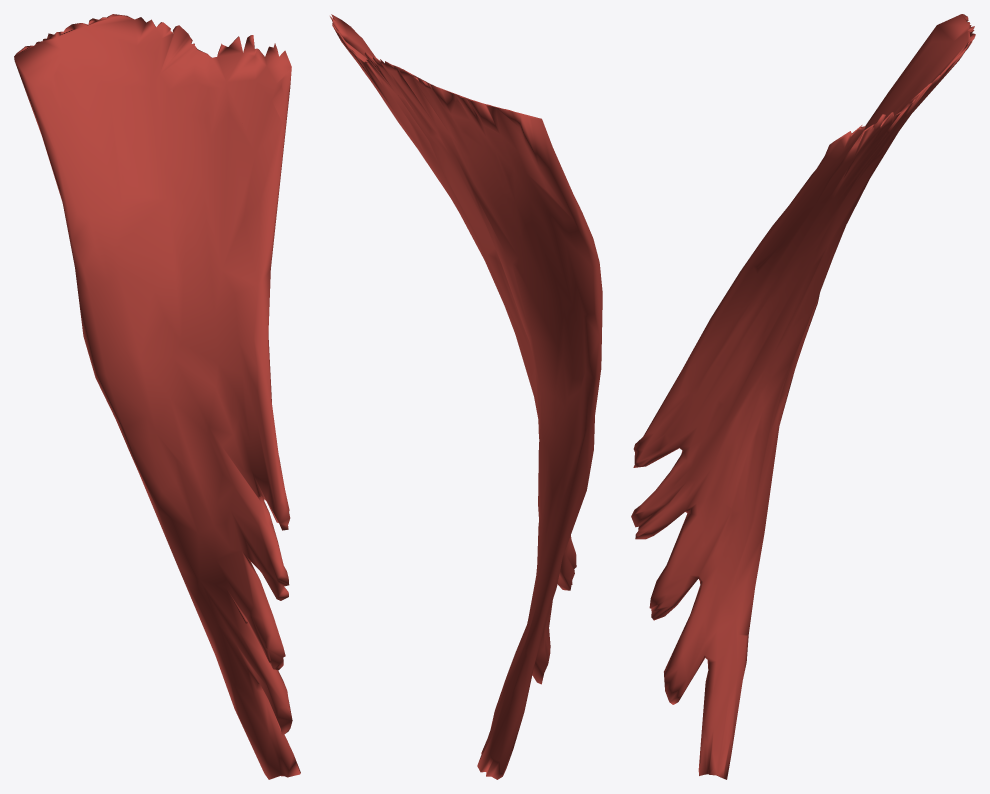
Rendered from musculos-spinalis-capitis-muscle-l.glb.
3 renders of one model, left to right at view 1: azimuth 30°, elevation 25°; view 2: azimuth 150°, elevation 25°; view 3: azimuth 270°, elevation 25°, orthographic. The views are drawn at different scales.
Visible parts, largest first — view 1: Spinalis capitis muscle.l; view 2: Spinalis capitis muscle.l; view 3: Spinalis capitis muscle.l.
Part boxes in pixels (x1,y1,x2,y2): Spinalis capitis muscle.l: [14, 14, 300, 779]; Spinalis capitis muscle.l: [330, 14, 602, 779]; Spinalis capitis muscle.l: [631, 14, 975, 779].
Bounding box in the file's own units: 0.0414 × 0.1241 × 0.0546.
